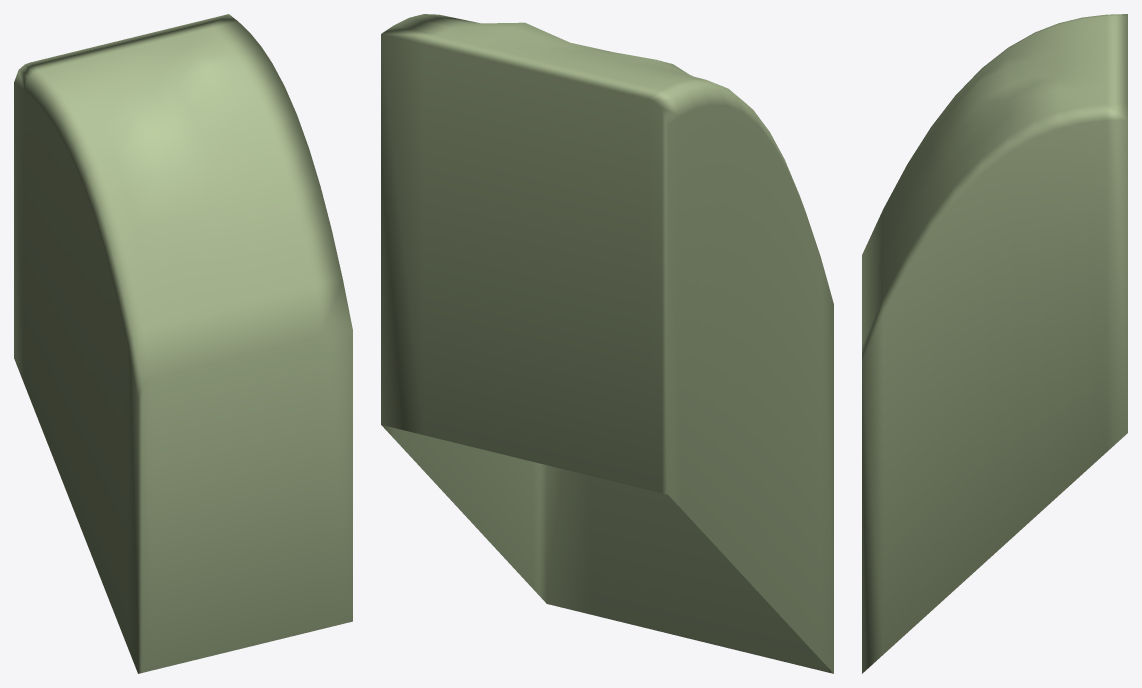
File: ground-ramp-l-31.glb
3 views of the same model, side by side, from view 1: azimuth 30°, elevation 25°; view 2: azimuth 150°, elevation 25°; view 3: azimuth 270°, elevation 25° (orthographic). The views are drawn at different scales.
Parts seen in each view (by area): view 1: ground-ramp-l-31; view 2: ground-ramp-l-31; view 3: ground-ramp-l-31.
Part boxes in pixels (left/top/right/bottom): ground-ramp-l-31: left=14, top=14, right=352, bottom=673; ground-ramp-l-31: left=381, top=14, right=833, bottom=673; ground-ramp-l-31: left=862, top=14, right=1127, bottom=673.
Bounding box in the file's own units: 1 × 2.3 × 1.
